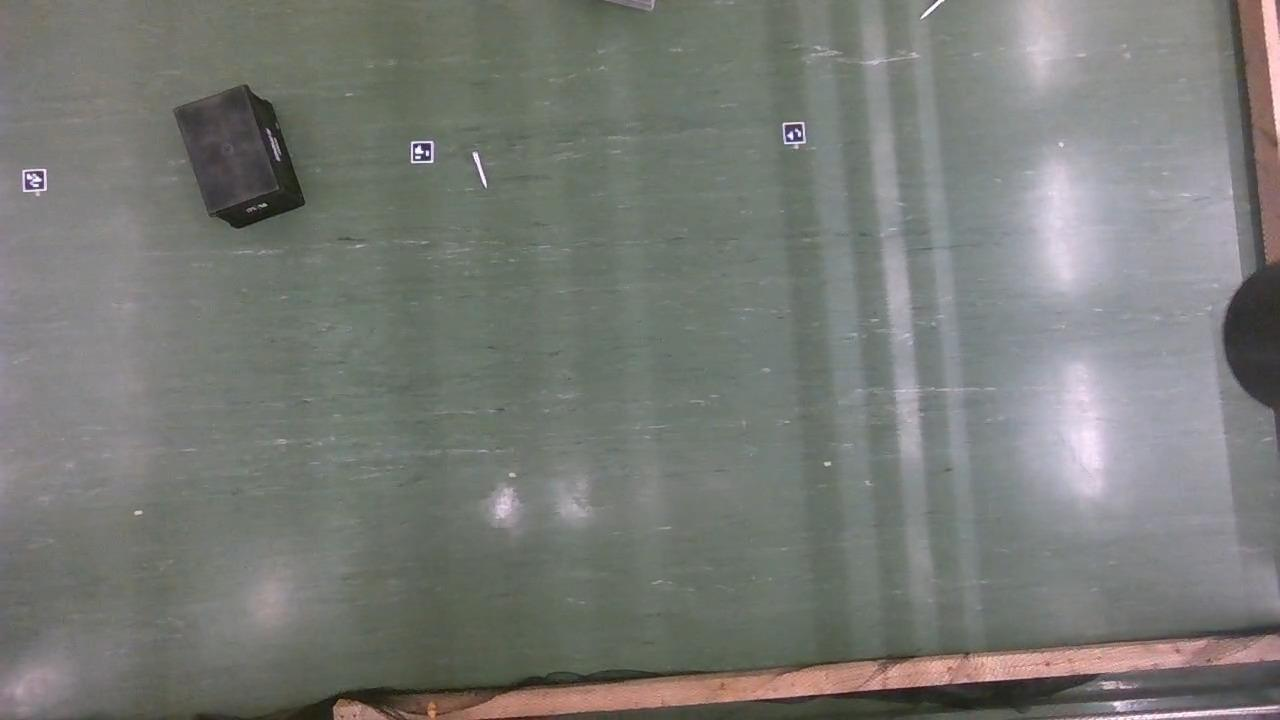probes: (920, 0, 957, 16)
rako: (173, 87, 304, 231)
